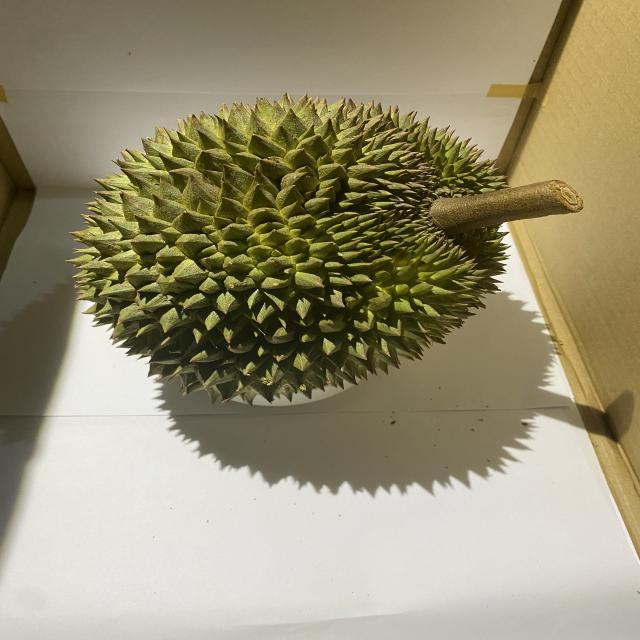immature: (63, 92, 515, 406)
